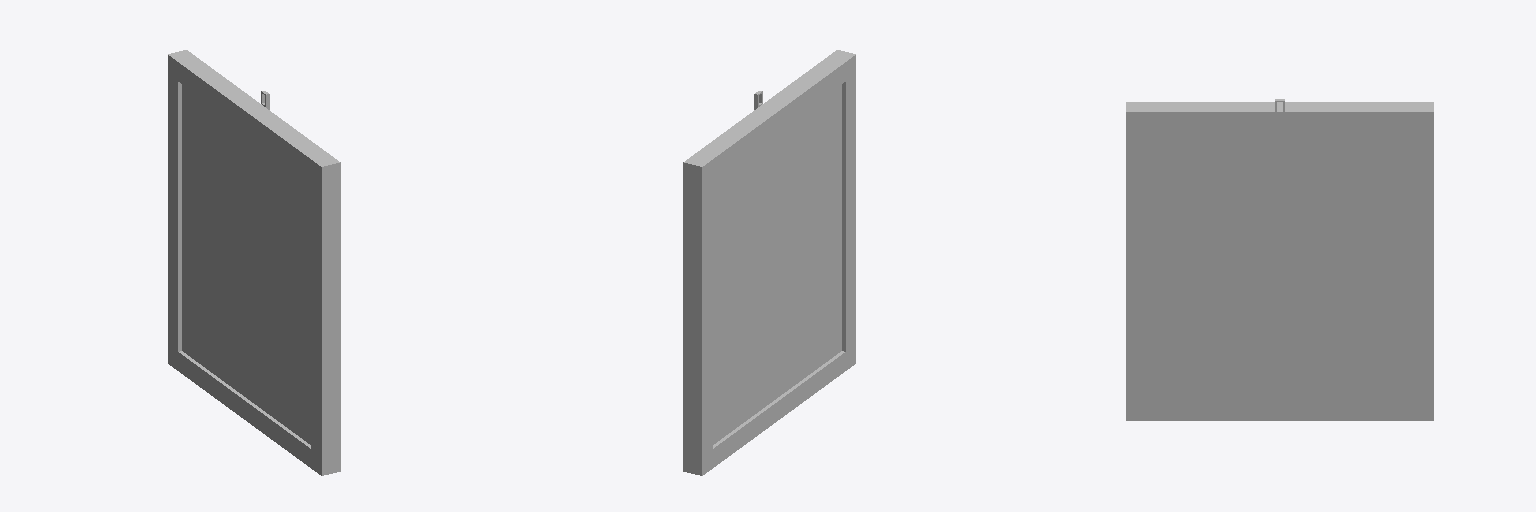
The model's file is Frame.obj.
The picture shows the model from 3 angles: view 1: azimuth 30°, elevation 25°; view 2: azimuth 150°, elevation 25°; view 3: azimuth 270°, elevation 25°; orthographic projection.
Parts seen in each view (by area): view 1: Box011; view 2: Box011; view 3: Box011.
Part boxes in pixels (x1,y1,x2,y2): Box011: (168,50,340,475); Box011: (683,50,855,475); Box011: (1126,99,1433,420).
Bounding box in the file's own units: 8.58 × 116 × 100.